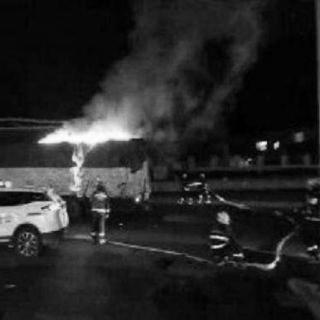Fire: (67, 144, 89, 188)
Smoke: (81, 10, 263, 113)
